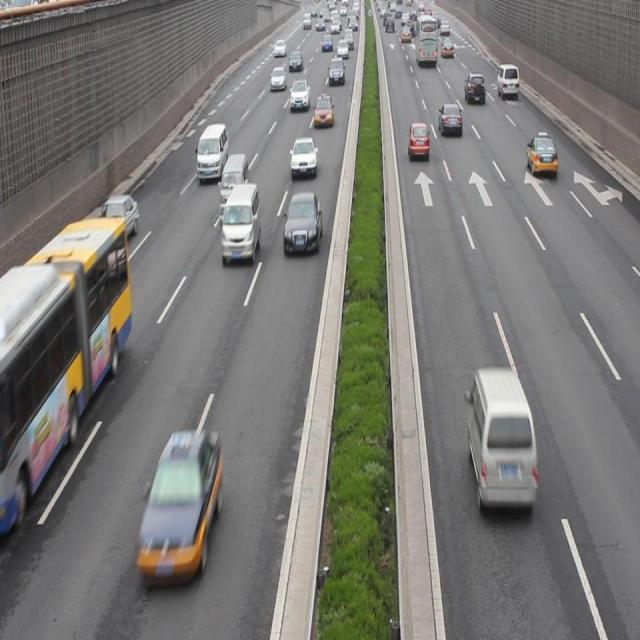car: (136, 427, 220, 582), (283, 194, 321, 255), (95, 195, 140, 246), (526, 134, 556, 178), (290, 138, 316, 178), (408, 121, 429, 162), (438, 102, 462, 137)
truck: (466, 367, 535, 512), (222, 183, 260, 260), (196, 122, 228, 180), (221, 152, 246, 217)
van: (1, 220, 133, 535)
